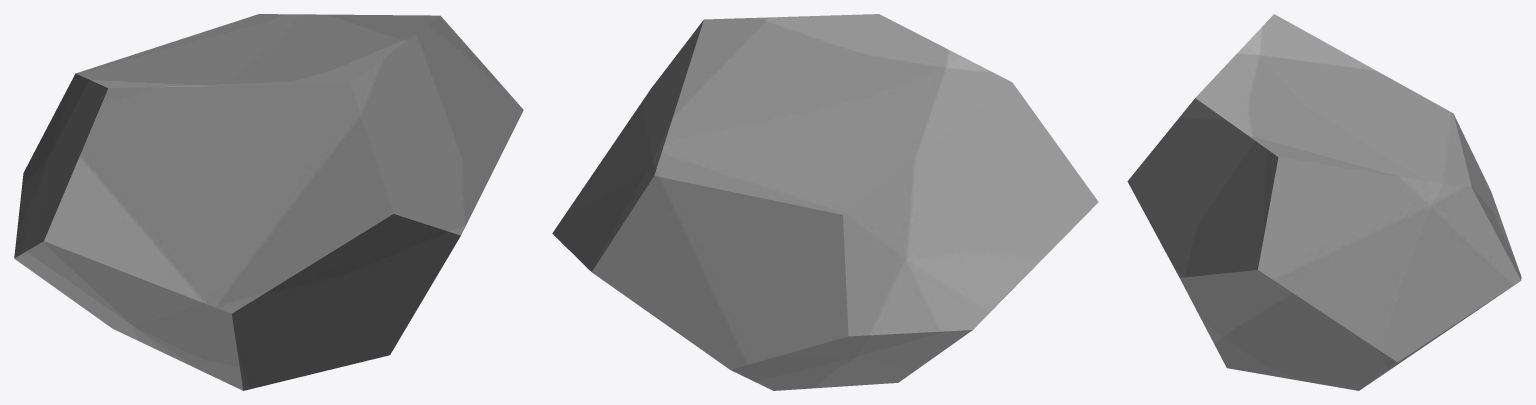
The model's file is rock.fbx.
3 renders of one model, left to right at view 1: azimuth 30°, elevation 25°; view 2: azimuth 150°, elevation 25°; view 3: azimuth 270°, elevation 25°, orthographic. The views are drawn at different scales.
Visible parts, largest first — view 1: rock; view 2: rock; view 3: rock.
Boxes of the visible parts, bbox=[...] form: rock: bbox=[14, 14, 523, 390]; rock: bbox=[552, 14, 1098, 390]; rock: bbox=[1127, 14, 1521, 390].
Size of the model in its own units: 0.1809 by 0.1067 by 0.148.
